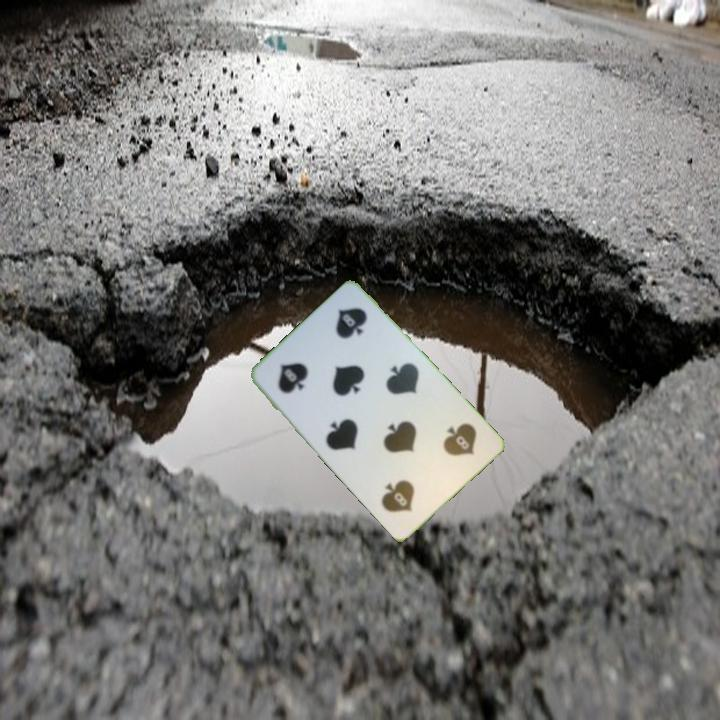s_8.png: (408, 403, 494, 489), (259, 332, 345, 417)
